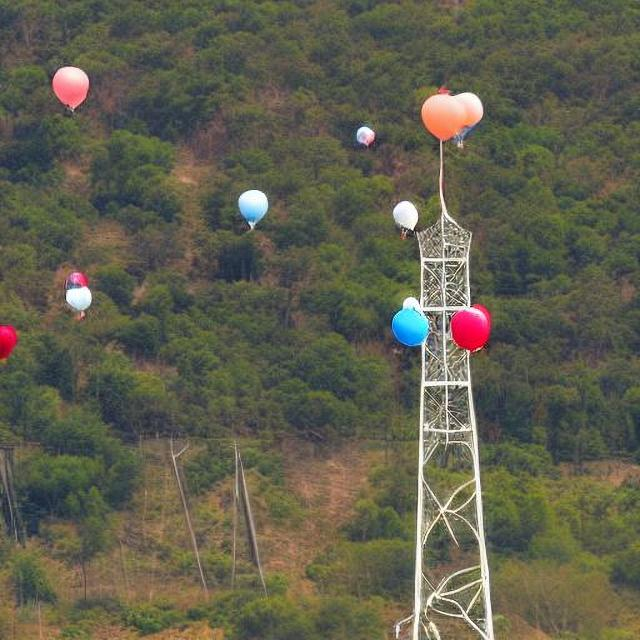balloon: (416, 87, 484, 146), (443, 302, 492, 358), (46, 64, 91, 116), (388, 306, 438, 350), (236, 187, 269, 230), (62, 269, 91, 313), (390, 198, 420, 238), (350, 122, 378, 149), (0, 318, 17, 358)
